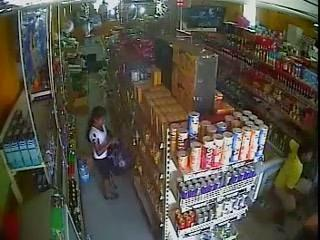shoplifting: (103, 136, 132, 176)
